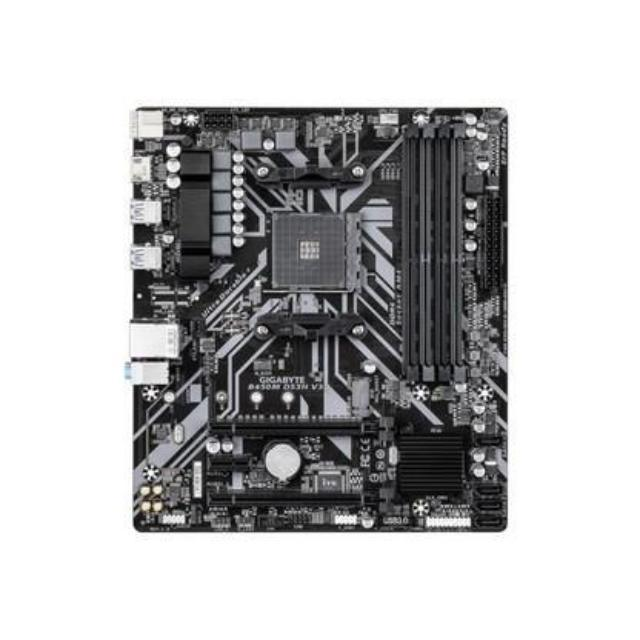Mainboard: (130, 100, 516, 537)
